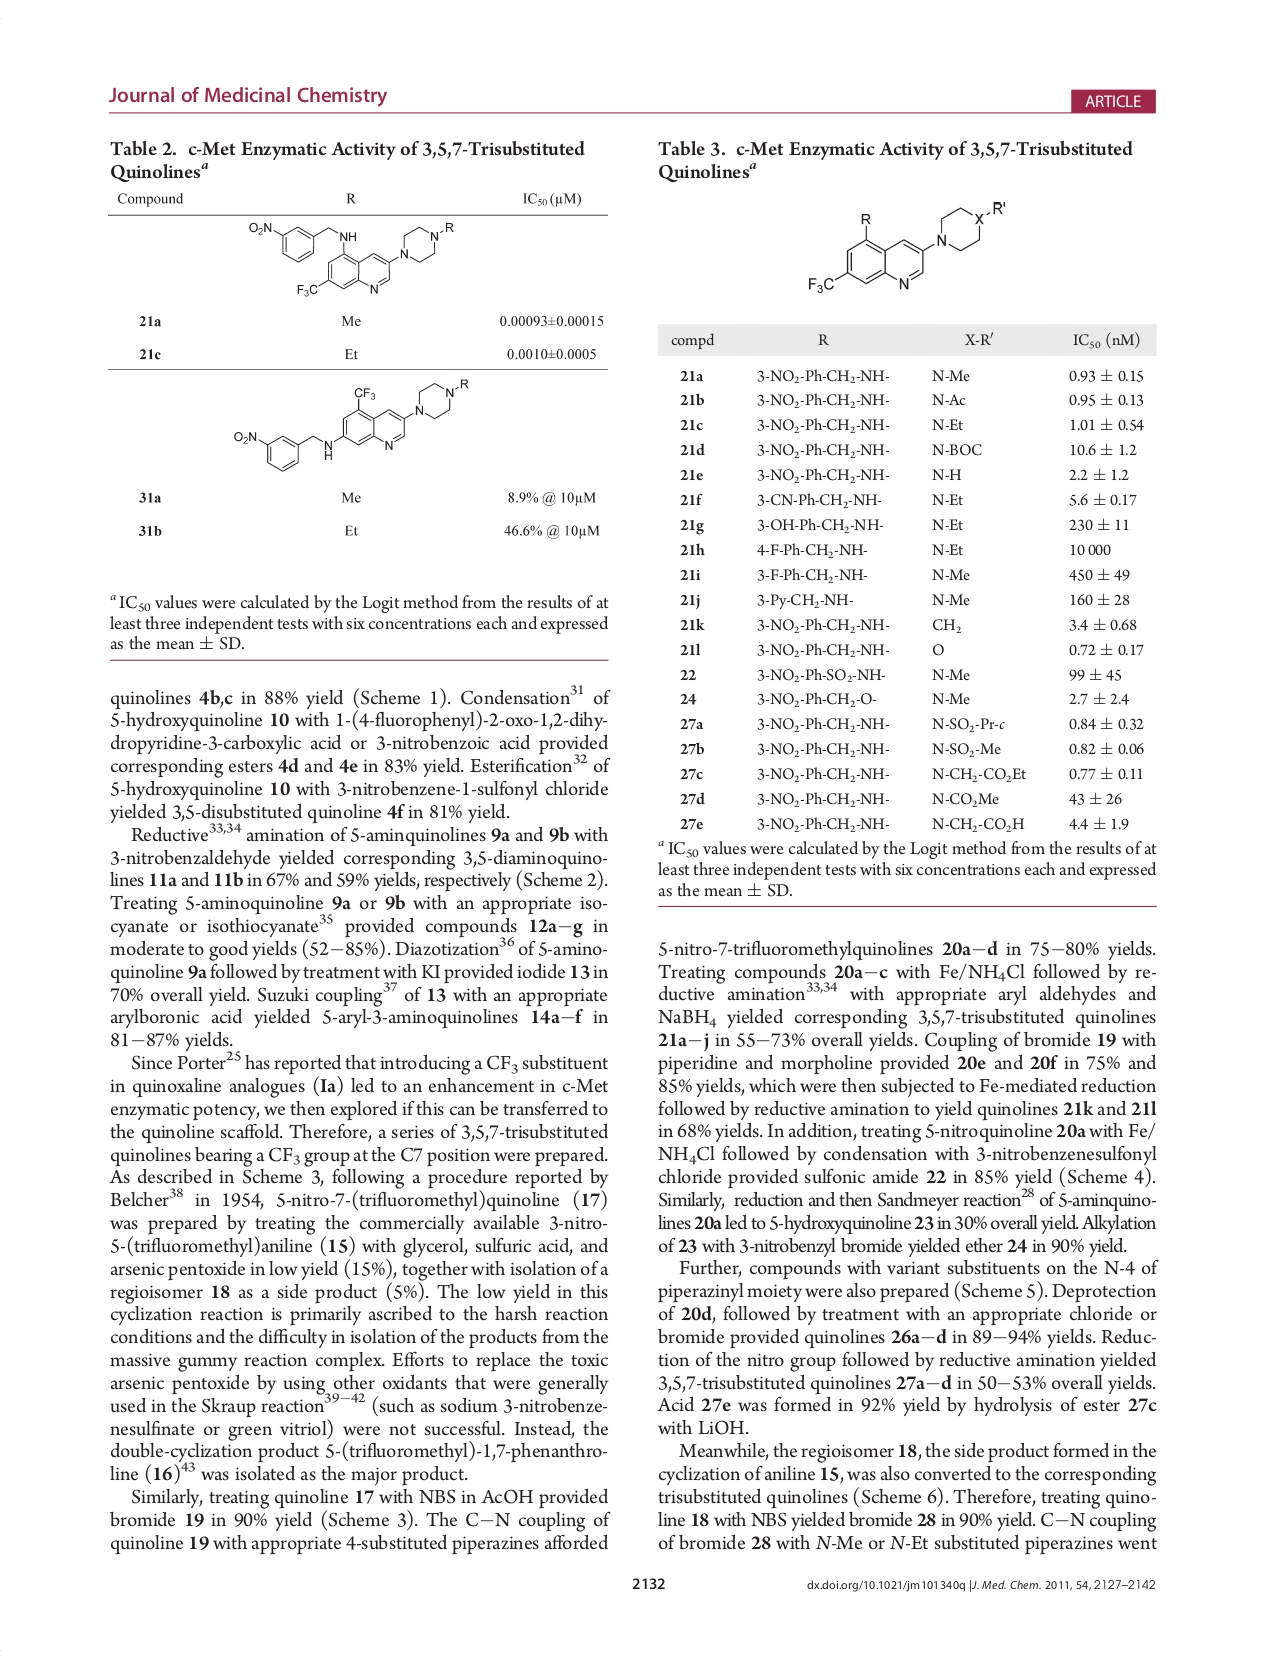exist_molecular: (227, 375, 469, 473), (806, 195, 1007, 298), (245, 218, 453, 299)
